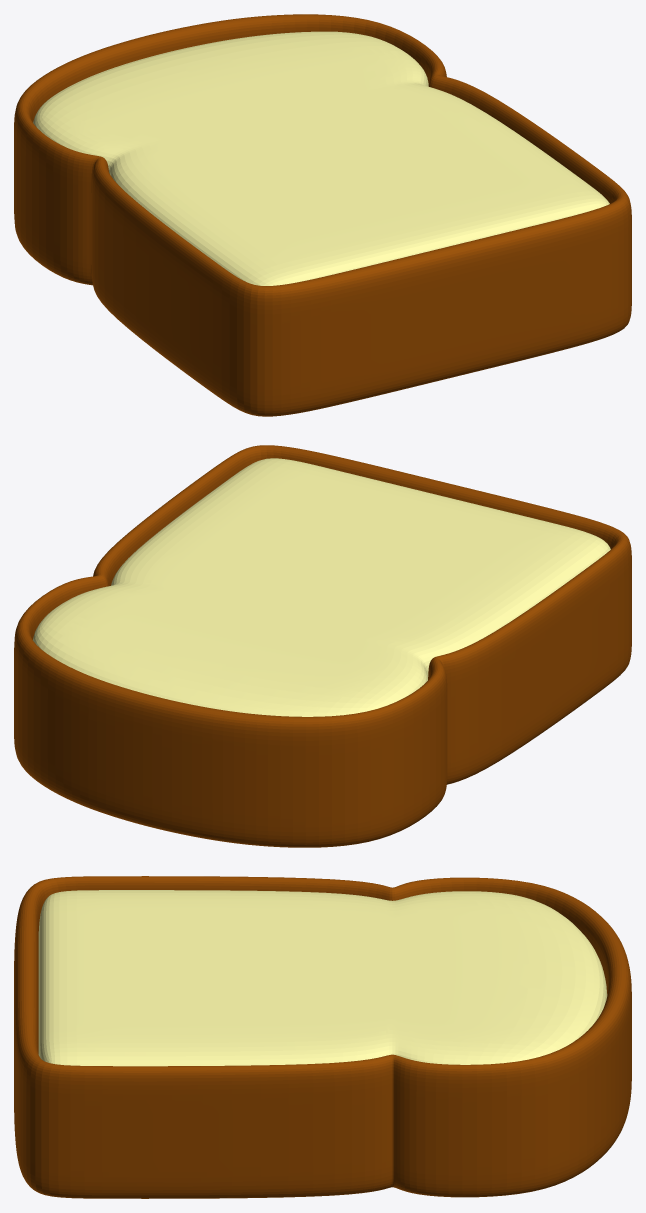
File: 2pieceBread.fbx
3 renders of one model, top to bottom at view 1: azimuth 30°, elevation 25°; view 2: azimuth 150°, elevation 25°; view 3: azimuth 270°, elevation 25°, orthographic.
Parts seen in each view (by area): view 1: Plane.003; view 2: Plane.003; view 3: Plane.003.
Boxes of the visible parts, x1,y1,x2,y2 form: Plane.003: (14, 14, 631, 416); Plane.003: (14, 445, 631, 847); Plane.003: (14, 876, 631, 1198).
Bounding box in the file's own units: 217 × 68.56 × 286.
